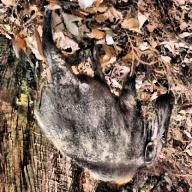boar: (19, 7, 176, 191)
